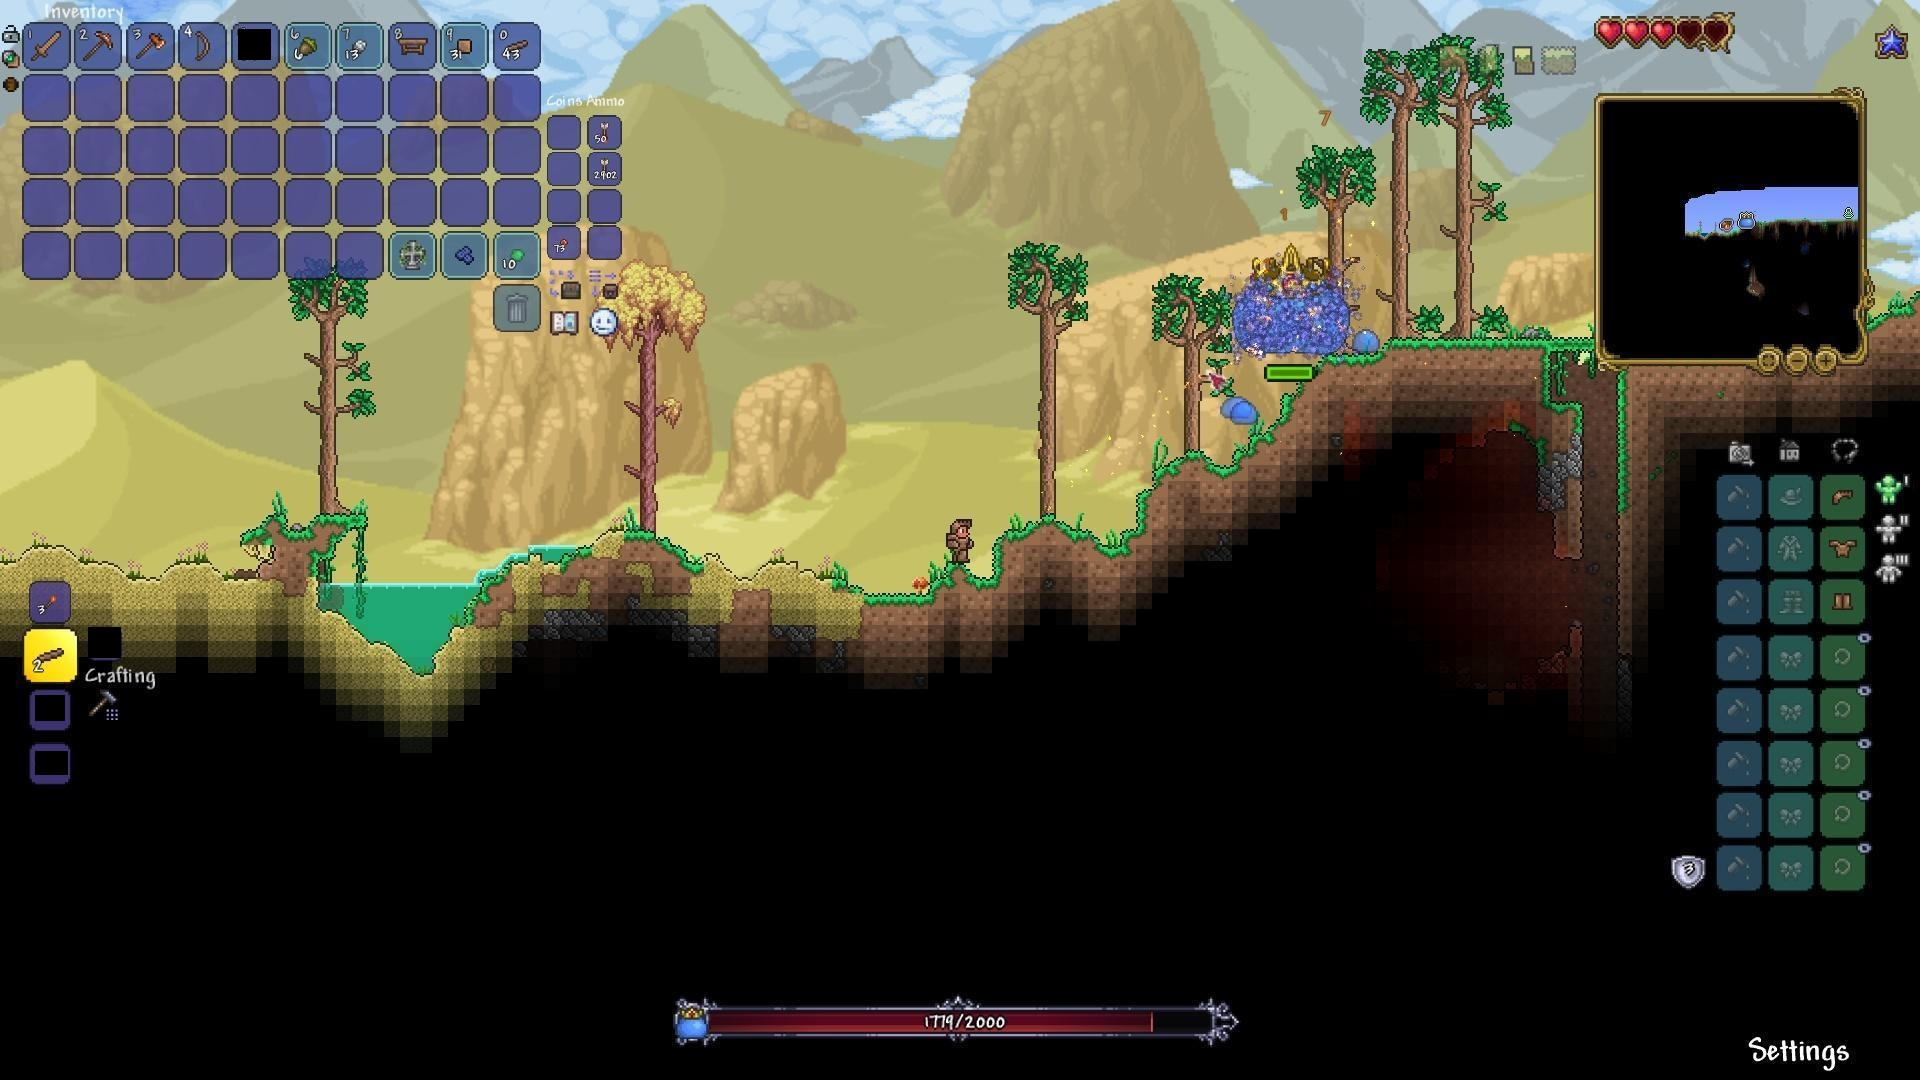breastplate: (1829, 537, 1859, 559)
helmet: (1826, 483, 1859, 510)
legs: (1830, 587, 1855, 616)
slime: (1222, 397, 1259, 425), (1348, 328, 1385, 353)
workbench: (392, 33, 429, 58)
